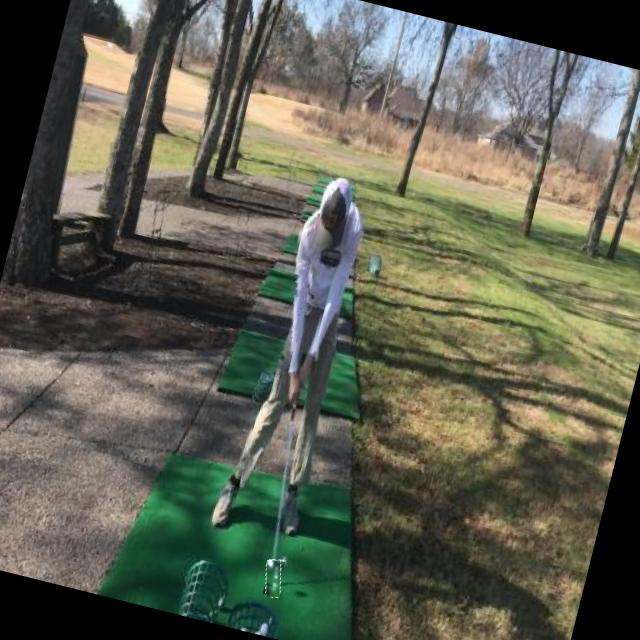club head: (260, 558, 286, 598)
